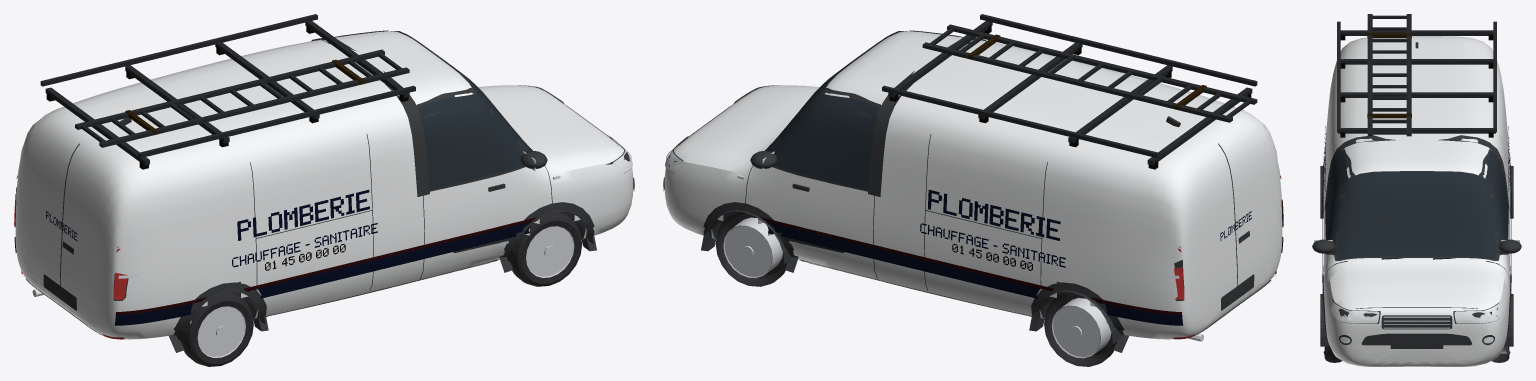
File: pro_plomb.glb
3 renders of one model, left to right at view 1: azimuth 30°, elevation 25°; view 2: azimuth 150°, elevation 25°; view 3: azimuth 270°, elevation 25°, orthographic. The views are drawn at different scales.
Visible parts, largest first — view 1: Body, Glass-1, ProStripe-1, WheelRR, WheelFR, LadderRail-1, LadderRail1, RackRail1, RackRail-1, ProAccent-1, Bpillar-1, ArchTrim-1.001 (+7 smaller); view 2: Body, Glass1, ProStripe1, WheelFL, WheelRL, LadderRail1, LadderRail-1, RackRail1, RackRail-1, ProAccent1, Bpillar1, ArchTrim1.001 (+7 smaller); view 3: Body, Windshield, Glass1, Glass-1, Intake, HeadReflector, Grille, RackBar-0.55, RackBar0.3, RackBar-1.4, RackBar-2.15, LadderRail1 (+17 smaller).
Boxes of the visible parts, left/top/right/bottom form: Body: left=15, top=31, right=633, bottom=339; Glass-1: left=418, top=93, right=532, bottom=189; ProStripe-1: left=114, top=220, right=537, bottom=325; WheelRR: left=180, top=291, right=253, bottom=366; WheelFR: left=510, top=211, right=582, bottom=286; LadderRail-1: left=99, top=67, right=409, bottom=147; LadderRail1: left=75, top=49, right=384, bottom=129; RackRail1: left=40, top=14, right=317, bottom=86; RackRail-1: left=138, top=85, right=415, bottom=158; ProAccent-1: left=115, top=217, right=537, bottom=315; Bpillar-1: left=383, top=71, right=429, bottom=196; ArchTrim-1.001: left=169, top=282, right=268, bottom=352; Body: left=664, top=31, right=1282, bottom=339; Glass1: left=765, top=93, right=879, bottom=189; ProStripe1: left=767, top=222, right=1183, bottom=325; WheelFL: left=715, top=211, right=787, bottom=286; WheelRL: left=1044, top=291, right=1116, bottom=366; LadderRail1: left=922, top=42, right=1232, bottom=122; LadderRail-1: left=947, top=24, right=1257, bottom=104; RackRail1: left=882, top=85, right=1159, bottom=158; RackRail-1: left=980, top=14, right=1257, bottom=86; ProAccent1: left=760, top=217, right=1181, bottom=315; Bpillar1: left=868, top=71, right=914, bottom=196; ArchTrim1.001: left=1029, top=282, right=1128, bottom=352; Body: left=1323, top=36, right=1510, bottom=366; Windshield: left=1337, top=171, right=1496, bottom=259; Glass1: left=1473, top=151, right=1508, bottom=253; Glass-1: left=1325, top=151, right=1357, bottom=253; Intake: left=1361, top=333, right=1472, bottom=345; HeadReflector: left=1330, top=302, right=1501, bottom=323; Grille: left=1381, top=315, right=1452, bottom=329; RackBar-0.55: left=1340, top=92, right=1493, bottom=97; RackBar0.3: left=1338, top=128, right=1495, bottom=133; RackBar-1.4: left=1340, top=59, right=1493, bottom=64; RackBar-2.15: left=1340, top=30, right=1493, bottom=35; LadderRail1: left=1406, top=14, right=1411, bottom=136.
Size of the model in its own units: 5.02 by 2.06 by 2.15.
